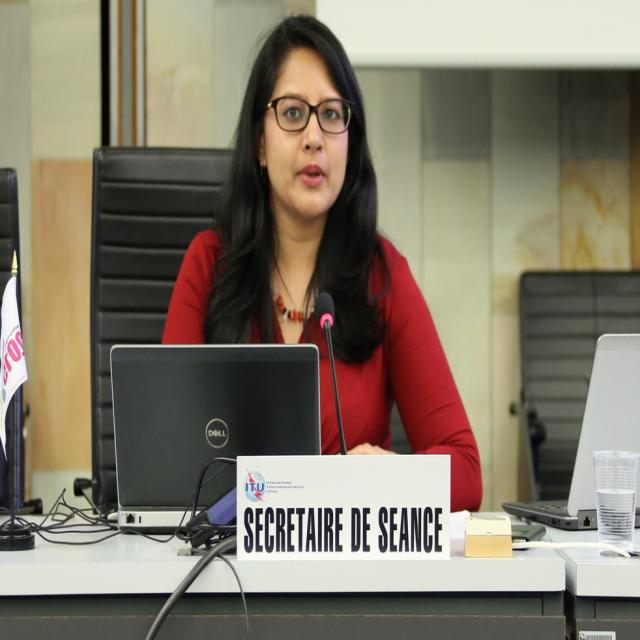Glasses: (264, 86, 354, 132)
